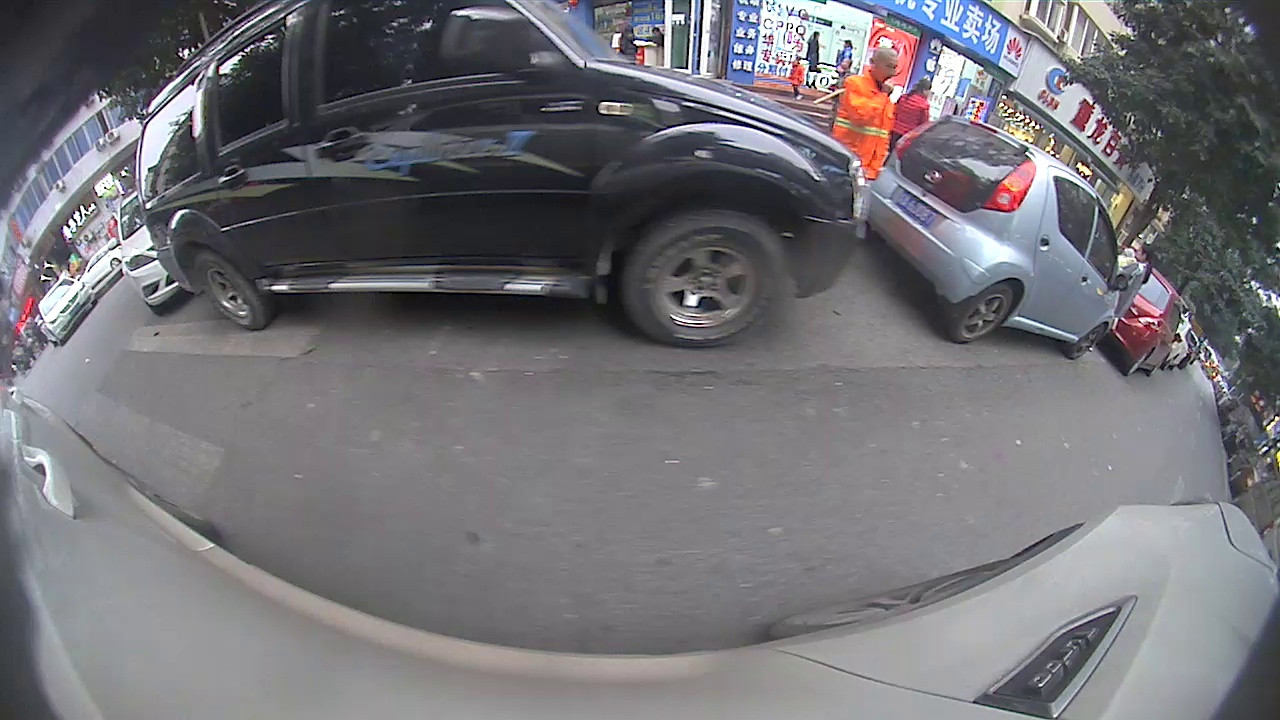car: (134, 2, 868, 348), (869, 112, 1118, 360), (115, 188, 205, 317), (1108, 262, 1184, 378), (35, 275, 97, 348)
front: (624, 206, 783, 352), (1065, 323, 1107, 361)
person: (832, 37, 899, 183), (1115, 243, 1156, 322), (895, 78, 934, 153)
rear: (186, 249, 265, 334), (948, 283, 1022, 345), (1121, 350, 1154, 377)
